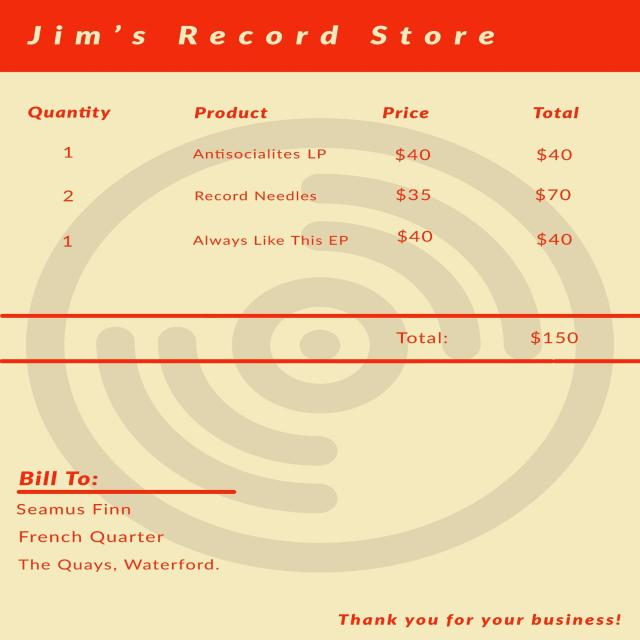paragraph: (14, 463, 249, 578), (17, 12, 509, 62), (331, 604, 623, 632), (388, 324, 598, 353)
table: (14, 98, 626, 308)
